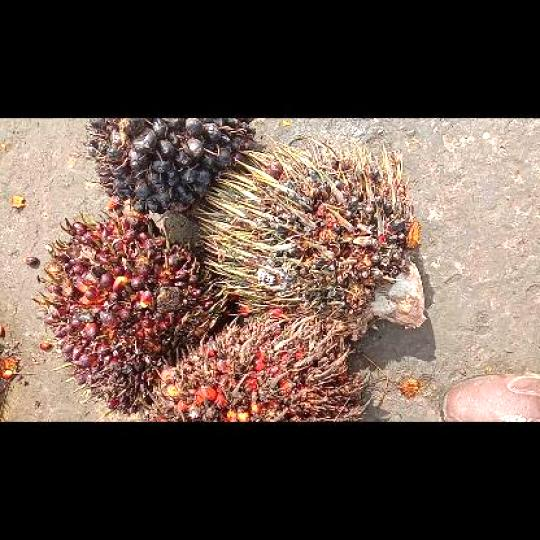masak: (38, 214, 219, 409)
terlalu masak: (139, 317, 366, 420)
